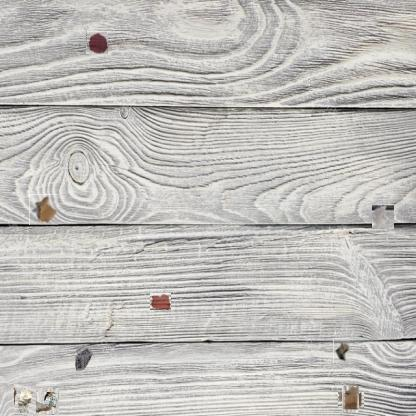dirty: (29, 194, 58, 225), (32, 387, 58, 415), (14, 384, 36, 416), (72, 342, 94, 372), (372, 204, 394, 229), (340, 389, 362, 410), (333, 338, 350, 363)
liquid: (86, 31, 108, 54), (149, 292, 171, 310)
